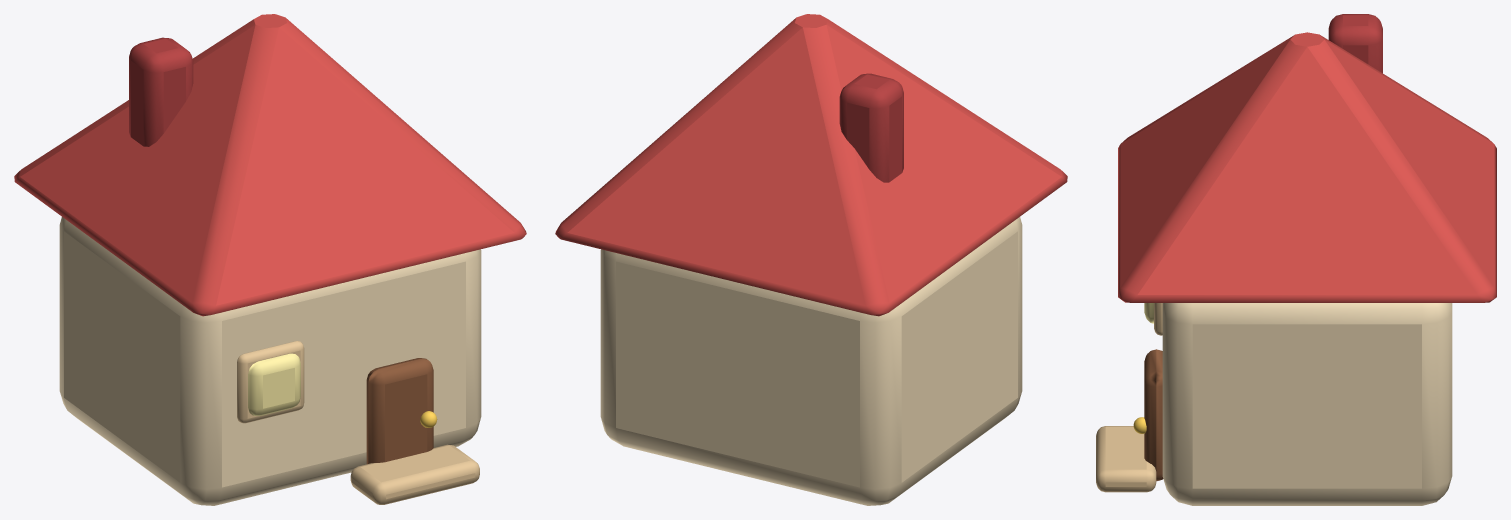
File: stage-house.glb
3 renders of one model, left to right at view 1: azimuth 30°, elevation 25°; view 2: azimuth 150°, elevation 25°; view 3: azimuth 270°, elevation 25°, orthographic.
Parts seen in each view (by area): view 1: Roof, Body, Door, Chimney, Step, Win, WinFrame; view 2: Body, Roof, Chimney; view 3: Roof, Body, Step, Chimney, Door.
Boxes of the visible parts, <box> form: Roof: <box>14,14,526,316</box>; Body: <box>59,217,481,505</box>; Door: <box>366,358,433,464</box>; Chimney: <box>129,37,193,146</box>; Step: <box>350,444,479,504</box>; Win: <box>248,353,300,416</box>; WinFrame: <box>237,341,304,423</box>; Body: <box>600,217,1022,505</box>; Roof: <box>555,14,1067,316</box>; Chimney: <box>839,73,903,182</box>; Roof: <box>1118,32,1496,302</box>; Body: <box>1162,303,1452,505</box>; Step: <box>1096,426,1156,492</box>; Chimney: <box>1328,14,1382,73</box>; Door: <box>1144,349,1163,481</box>.
Bounding box in the file's own units: 0.3138 × 0.37 × 0.3319.
